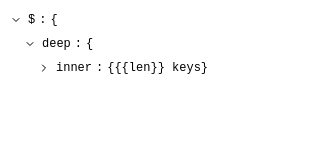
Test: BsonTreeViewer › toggles aria-expanded on mouse click and keyboard (Enter/Space)
The width and height of the screenshot is (320, 160).
Click the button named "Expand inner".
click(44, 68)  # box [36,60,52,76]
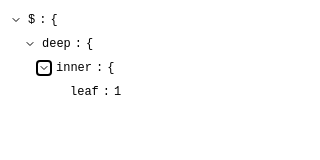
Result: the list item with aria-label "inner node" is expanded at [36,60,114,76]
Press Enter
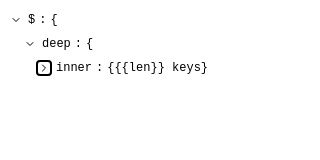
Result: the list item with aria-label "inner node" is collapsed at [36,60,208,76]
Type keys " "
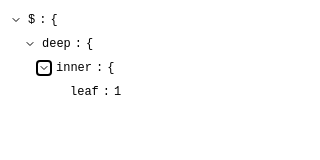
Result: the list item with aria-label "inner node" is expanded at [36,60,114,76]
